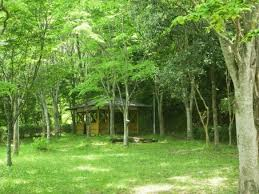forest: (4, 1, 259, 192)
house: (67, 93, 145, 140)
tree: (179, 3, 258, 194)
